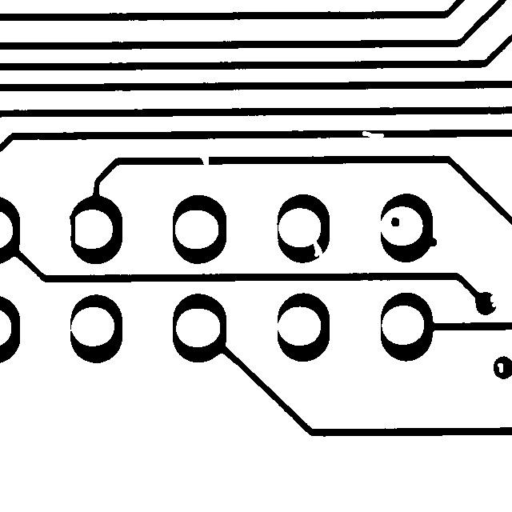copper: (383, 210, 406, 234)
mousebite: (354, 123, 391, 145), (482, 285, 506, 314)
open: (303, 231, 332, 270), (191, 146, 216, 175)
pin-hole: (490, 355, 510, 380)
short: (62, 207, 82, 255)
spur: (420, 229, 444, 254)
